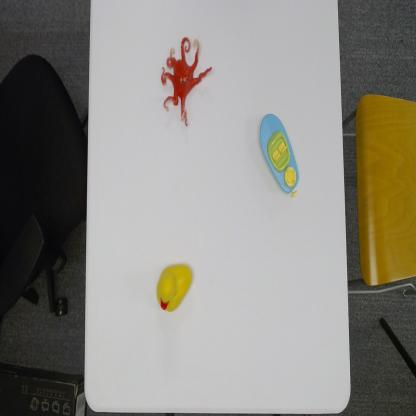Boat: (258, 112, 300, 200)
Duck: (156, 261, 194, 313)
Octopus: (160, 34, 214, 128)
